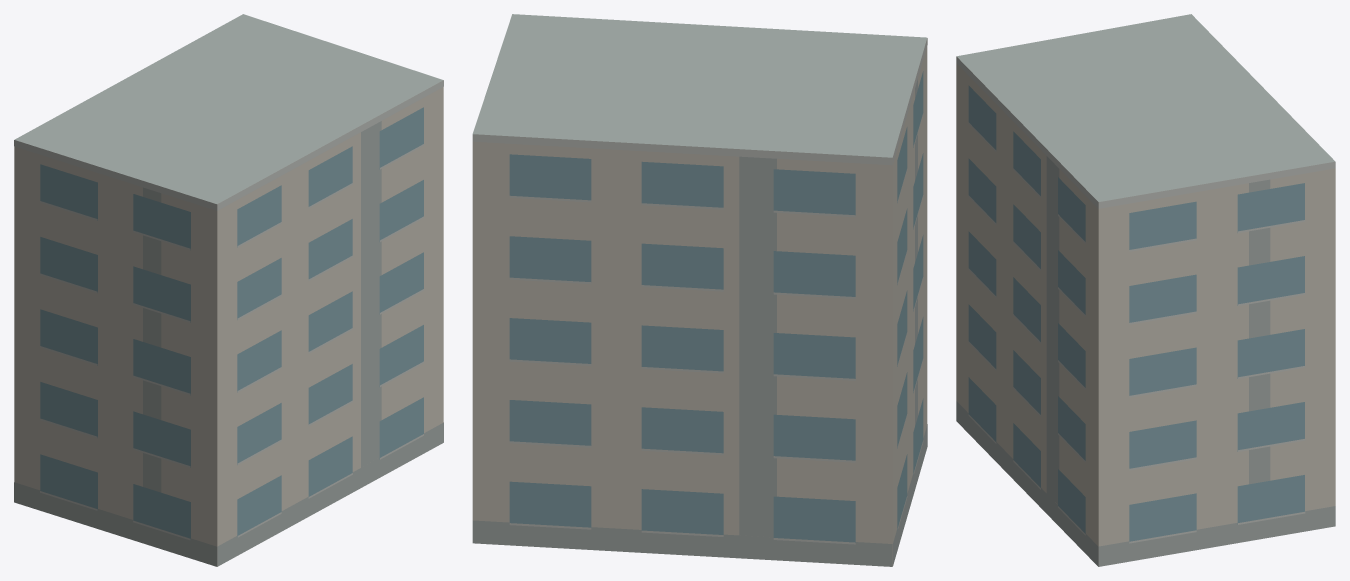
Rendered from survey-upis-33024402.glb.
The picture shows the model from 3 angles, left to right: view 1: azimuth 30°, elevation 25°; view 2: azimuth 150°, elevation 25°; view 3: azimuth 270°, elevation 25°; orthographic projection. The views are drawn at different scales.
Visible parts, largest first — view 1: survey-upis-33024402.tmp; view 2: survey-upis-33024402.tmp; view 3: survey-upis-33024402.tmp.
Boxes of the visible parts, x1=… form: survey-upis-33024402.tmp: x1=14, y1=14, x2=443, y2=566; survey-upis-33024402.tmp: x1=472, y1=14, x2=927, y2=566; survey-upis-33024402.tmp: x1=956, y1=14, x2=1335, y2=566.
Size of the model in its own units: 14.61 by 13.2 by 12.45.
